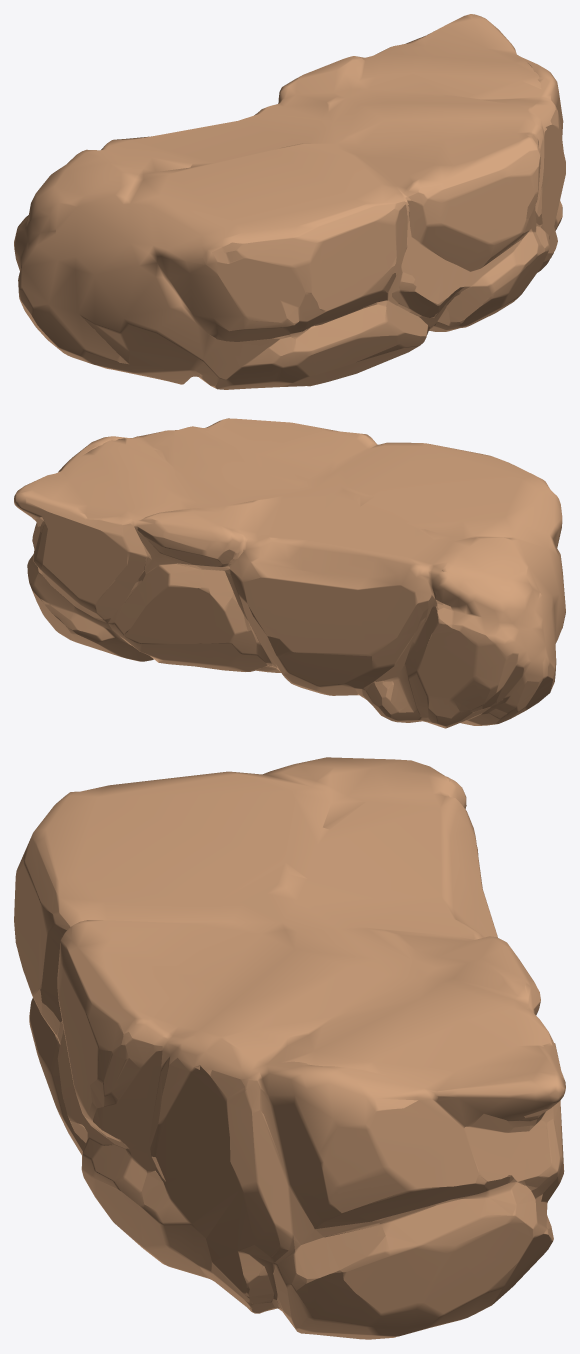
3 renders of one model, top to bottom at view 1: azimuth 30°, elevation 25°; view 2: azimuth 150°, elevation 25°; view 3: azimuth 270°, elevation 25°, orthographic. The views are drawn at different scales.
Parts seen in each view (by area): view 1: Mesh_33_LOD0; view 2: Mesh_33_LOD0; view 3: Mesh_33_LOD0.
Part boxes in pixels (x1,y1,x2,y2): Mesh_33_LOD0: [14, 14, 565, 389]; Mesh_33_LOD0: [14, 418, 565, 728]; Mesh_33_LOD0: [14, 757, 565, 1339].
Size of what is drawn, in the model's own units: 3098 by 1109 by 1872.
